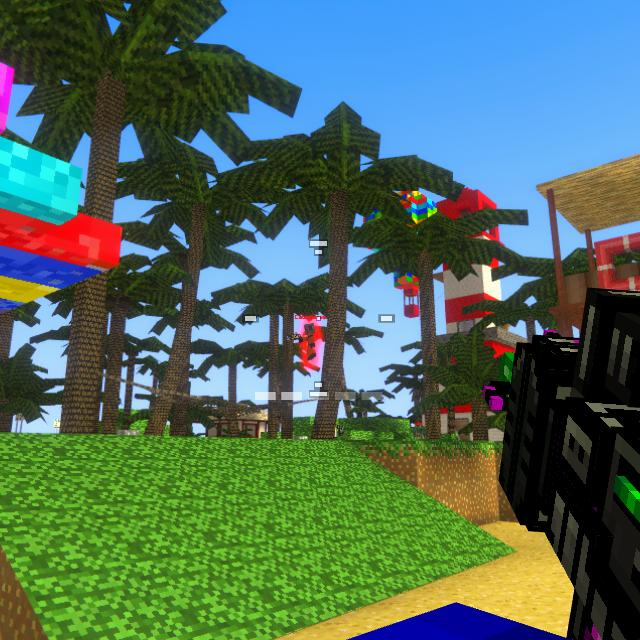Enemy: (301, 322, 318, 359)
